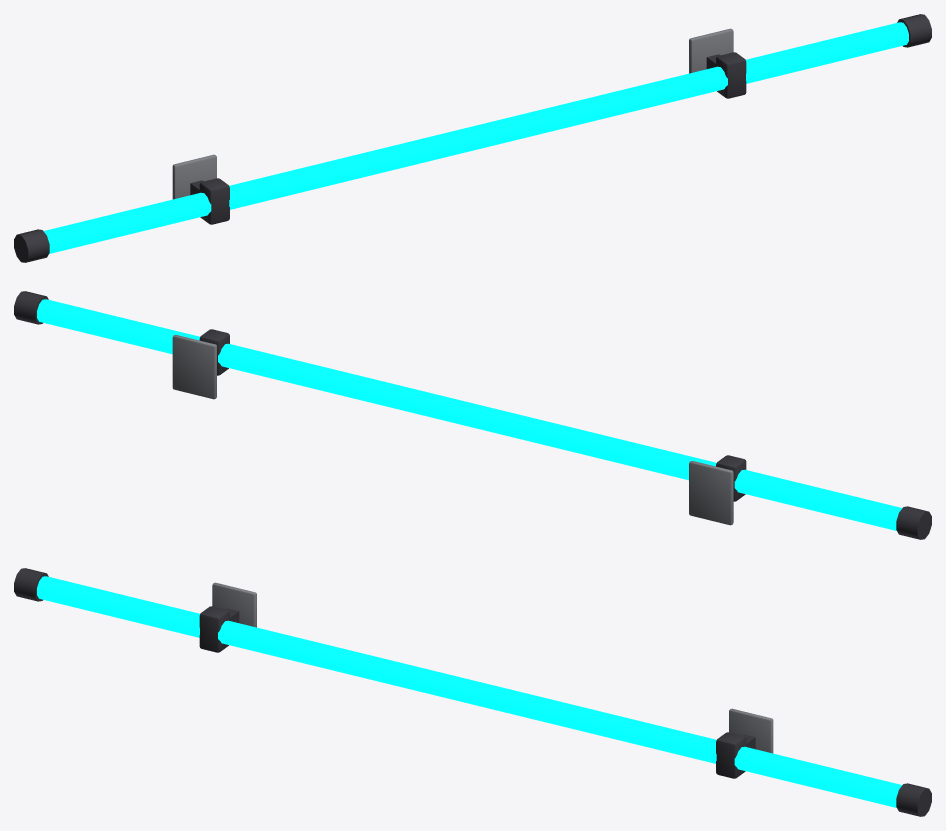
The model's file is KIT_Neon_Reto_Ciano.glb.
3 renders of one model, top to bottom at view 1: azimuth 30°, elevation 25°; view 2: azimuth 150°, elevation 25°; view 3: azimuth 330°, elevation 25°, orthographic.
Visible parts, largest first — view 1: KIT_Neon_Reto_Ciano; view 2: KIT_Neon_Reto_Ciano; view 3: KIT_Neon_Reto_Ciano.
Part boxes in pixels (bbox=[...]): KIT_Neon_Reto_Ciano: bbox=[14, 14, 931, 262]; KIT_Neon_Reto_Ciano: bbox=[14, 291, 931, 539]; KIT_Neon_Reto_Ciano: bbox=[14, 568, 931, 816].
Size of the model in its own units: 1.05 by 0.06 by 0.0573.
